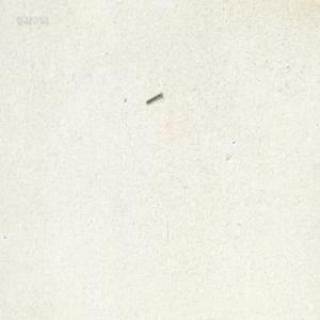Bolttrack_idkeyframe: (144, 89, 161, 103)
